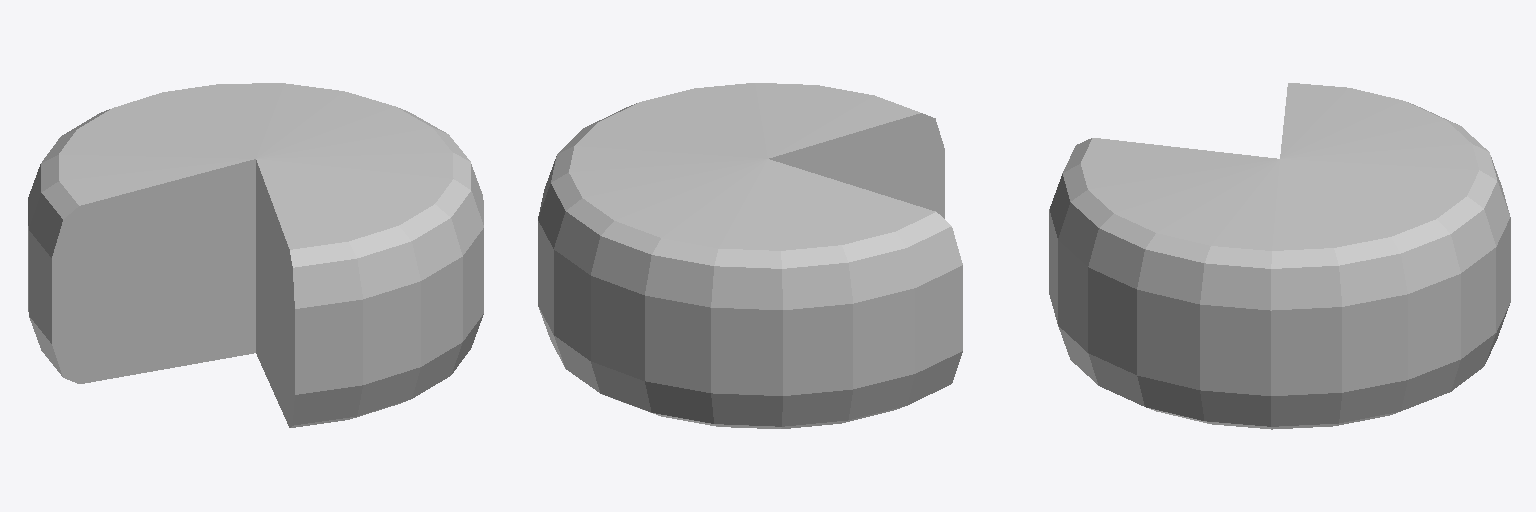
Rendered from cheese.obj.
3 renders of one model, left to right at view 1: azimuth 30°, elevation 25°; view 2: azimuth 150°, elevation 25°; view 3: azimuth 270°, elevation 25°, orthographic.
Parts seen in each view (by area): view 1: cheese; view 2: cheese; view 3: cheese.
Boxes of the visible parts, <box> form: cheese: <box>28,83,483,427</box>; cheese: <box>538,83,962,428</box>; cheese: <box>1049,83,1510,429</box>.
Bounding box in the file's own units: 10.59 × 4.92 × 10.59.